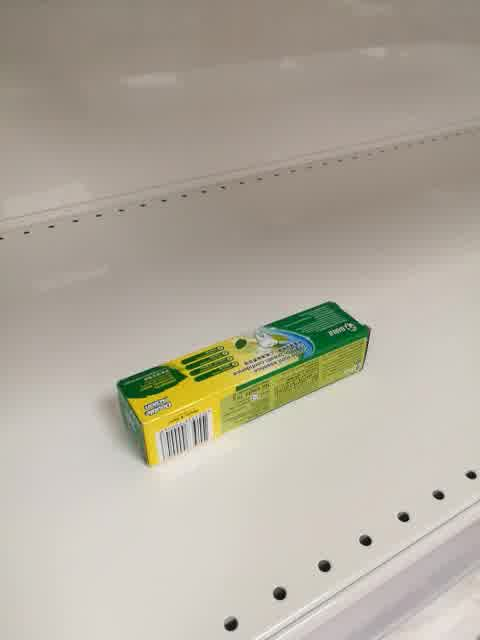toothpaste: (115, 301, 374, 470)
